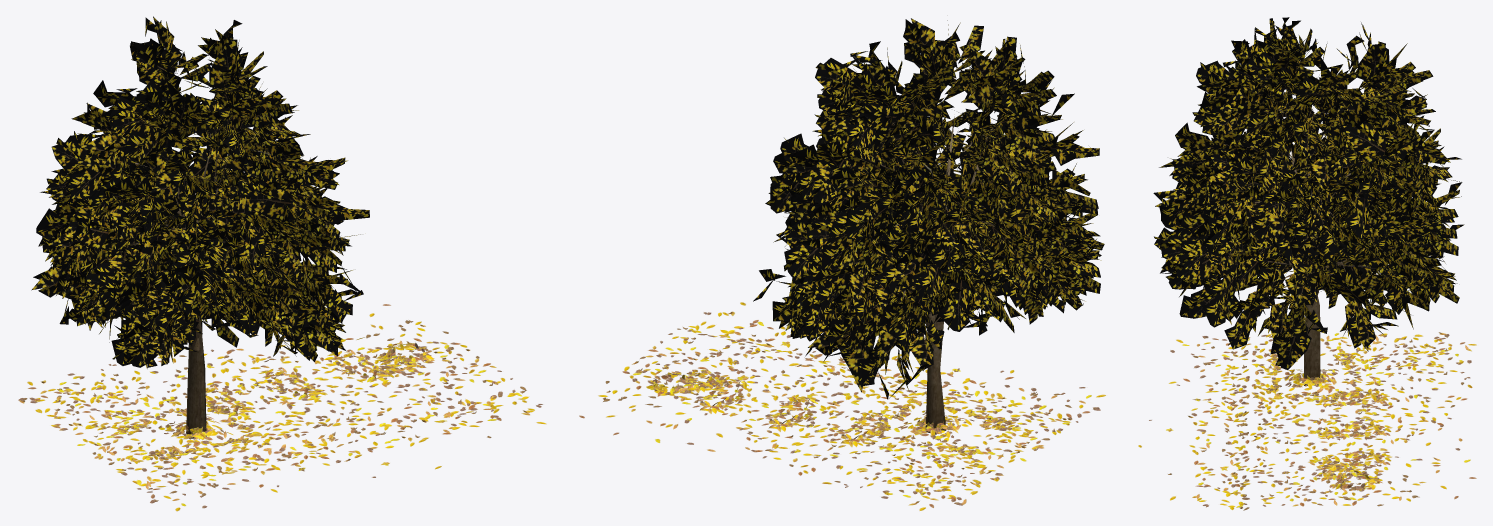
File: tree.glb
3 views of the same model, side by side, from view 1: azimuth 30°, elevation 25°; view 2: azimuth 150°, elevation 25°; view 3: azimuth 270°, elevation 25° (orthographic). The views are drawn at different scales.
Visible parts, largest first — view 1: TreeWood, TreeLeaves; view 2: TreeWood, TreeLeaves; view 3: TreeWood, TreeLeaves.
Part boxes in pixels (x1,y1,x2,y2): TreeWood: (31, 16, 369, 438); TreeLeaves: (18, 304, 546, 511); TreeWood: (753, 18, 1104, 434); TreeLeaves: (579, 302, 1105, 510); TreeWood: (1153, 17, 1464, 385); TreeLeaves: (1138, 332, 1476, 510).
Bounding box in the file's own units: 6.65 × 5.74 × 4.98.
7 materials, 7 textured.
